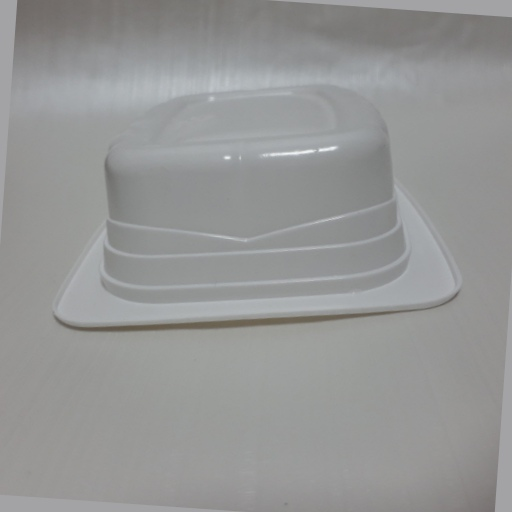Plastic_4: (49, 86, 461, 333)
